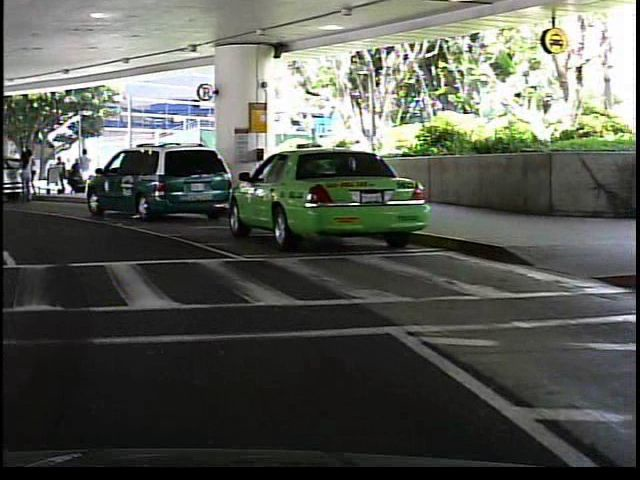person: (15, 151, 33, 202)
